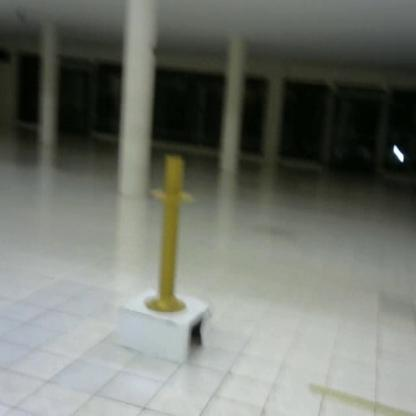pole: (144, 148, 196, 316)
